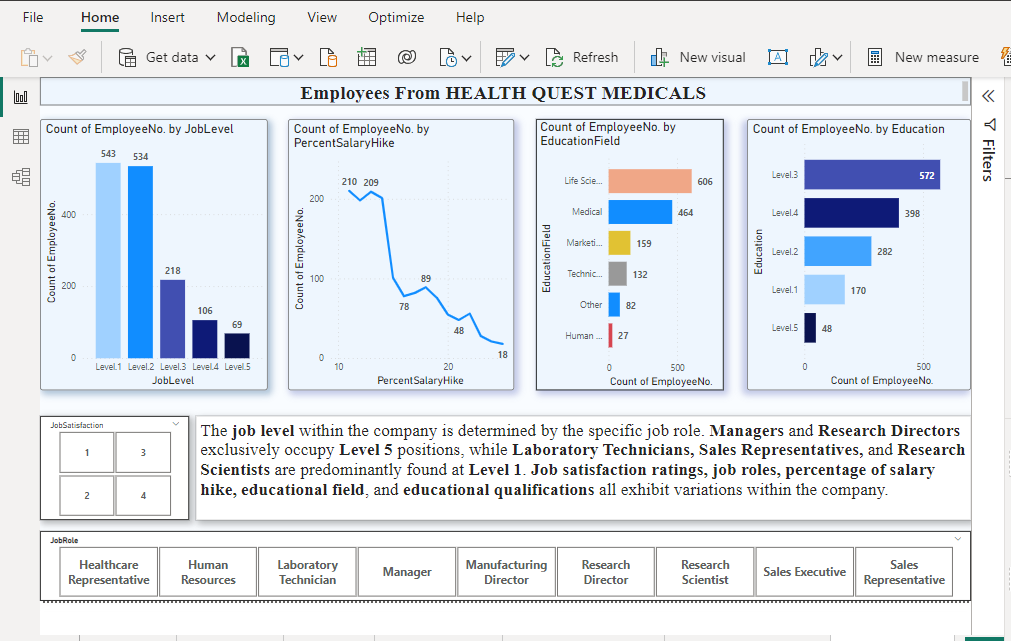

What the dashboard file says about the page in this screenshot:
{"tool":"powerbi","page":{"name":"JobSatisfaction","canvas":[1280,720],"ordinal":6},"visuals":[{"type":"textbox","box":[0,0,1280,38.9],"z":0},{"type":"clusteredColumnChart","fields":{"Y":["CountNonNull(Table1.EmployeeNo.)"],"Category":["Table1.JobLevel"]},"box":[0,57.7,313.5,372.6],"z":1000},{"type":"clusteredBarChart","fields":{"Y":["CountNonNull(Table1.EmployeeNo.)"],"Category":["Table1.Education"]},"box":[972,57.7,308,372.6],"z":2000},{"type":"lineChart","fields":{"Category":["Table1.PercentSalaryHike"],"Y":["CountNonNull(Table1.EmployeeNo.)"]},"box":[341,57.7,310.7,372.6],"z":3000},{"type":"slicer","fields":{"Values":["Table1.JobSatisfaction"]},"box":[0,466.1,204.9,143],"z":4000},{"type":"textbox","box":[214.5,466.1,1065.5,143],"z":5000},{"type":"clusteredBarChart","fields":{"Category":["Table1.EducationField"],"Y":["CountNonNull(Table1.EmployeeNo.)"]},"box":[681.9,57.7,258.5,372.6],"z":6000},{"type":"slicer","fields":{"Values":["Table1.JobRole"]},"box":[0,624.4,1280.3,95.6],"z":7000}]}

Visuals, with their boxes on the page's 1280x720 design canvas (x1, y1, x2, y2). These are canvas units, not pixel positions in the 1011x641 screenshot, which may show the page scaled, cropped or inside an application window:
textbox: [x1=0, y1=0, x2=1280, y2=39]
clusteredColumnChart - CountNonNull(Table1.EmployeeNo.) x Table1.JobLevel: [x1=0, y1=58, x2=314, y2=430]
clusteredBarChart - CountNonNull(Table1.EmployeeNo.) x Table1.Education: [x1=972, y1=58, x2=1280, y2=430]
lineChart - Table1.PercentSalaryHike x CountNonNull(Table1.EmployeeNo.): [x1=341, y1=58, x2=652, y2=430]
slicer - Table1.JobSatisfaction: [x1=0, y1=466, x2=205, y2=609]
textbox: [x1=214, y1=466, x2=1280, y2=609]
clusteredBarChart - Table1.EducationField x CountNonNull(Table1.EmployeeNo.): [x1=682, y1=58, x2=940, y2=430]
slicer - Table1.JobRole: [x1=0, y1=624, x2=1280, y2=720]
